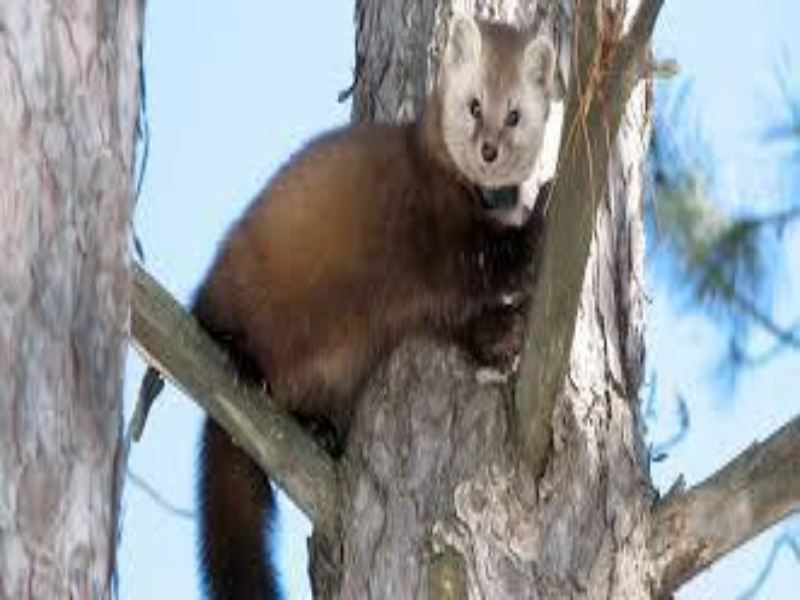minkish: (188, 16, 559, 590)
